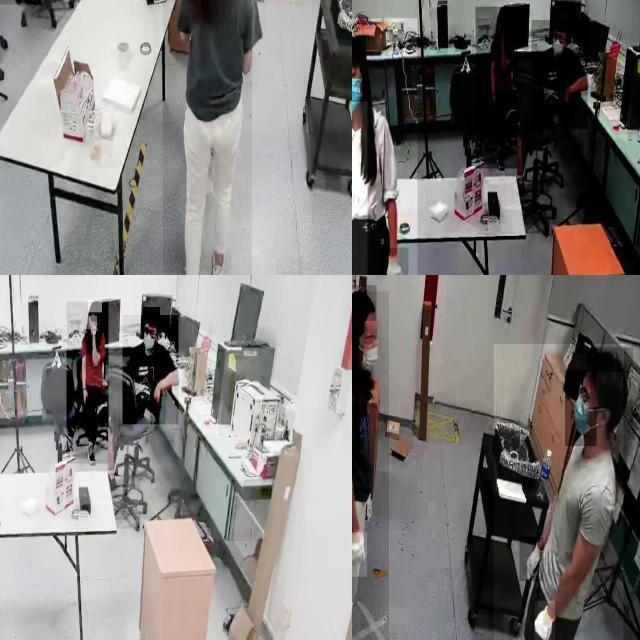face_mask: (565, 370, 597, 446), (352, 307, 383, 375), (352, 55, 362, 113), (551, 31, 567, 56), (142, 326, 158, 351)
face_nomask: (496, 21, 506, 35), (88, 316, 98, 330)
hand_glove: (520, 537, 544, 581), (534, 601, 555, 640), (380, 247, 409, 275), (352, 532, 367, 577)
hand_noglove: (561, 87, 571, 114), (152, 382, 162, 409), (490, 89, 497, 111), (81, 384, 88, 406), (91, 322, 97, 336), (500, 27, 506, 40)
head_nohelmet: (586, 348, 634, 373), (352, 285, 376, 321), (352, 36, 366, 60), (552, 12, 570, 30), (142, 307, 160, 325), (497, 5, 511, 18), (88, 300, 102, 313)
person: (494, 344, 624, 640), (163, 0, 252, 275), (352, 18, 418, 275), (352, 291, 389, 640), (476, 7, 518, 169), (67, 302, 109, 464), (532, 20, 588, 130), (123, 315, 179, 425)
shoes: (208, 232, 229, 275), (179, 254, 204, 275), (352, 619, 369, 640)
